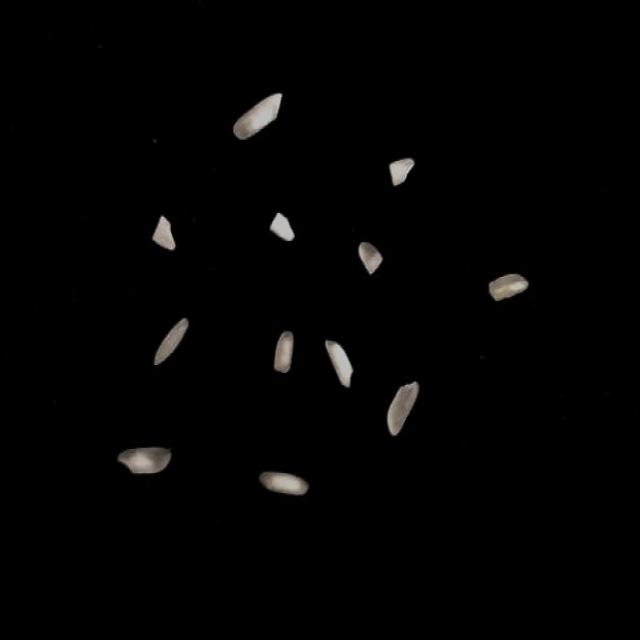Broken: (489, 273, 529, 301), (151, 213, 175, 250), (358, 240, 383, 274), (274, 331, 294, 372), (270, 211, 296, 241), (389, 157, 415, 186)
Full: (232, 92, 283, 140), (386, 381, 421, 435), (153, 316, 190, 364), (117, 446, 173, 474), (325, 337, 354, 389), (258, 470, 310, 495)
